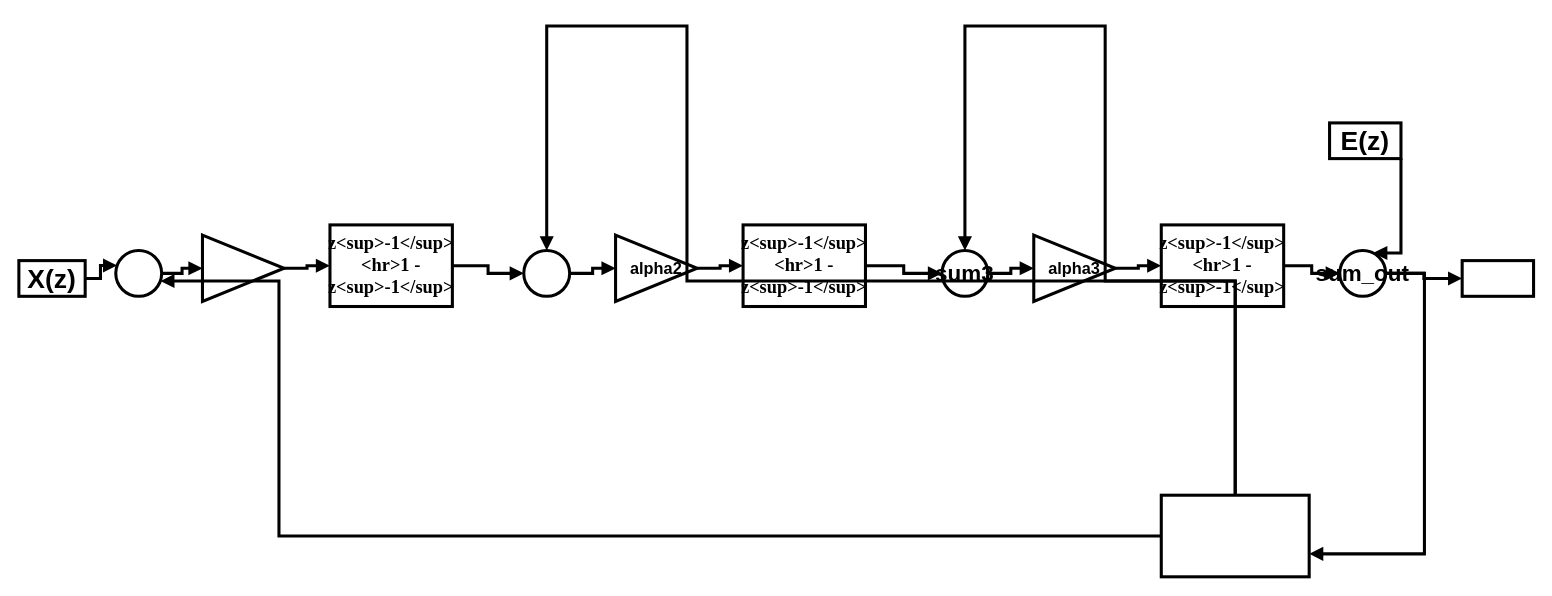
This 1552x596 diagram has some shape labels left out. The box of each missing label's shape, as (x1, y1, x2, y2) in pixels:
alpha1: (200, 233, 285, 302)
DAC: (1159, 493, 1310, 578)
sum1: (114, 248, 163, 297)
sum2: (522, 248, 571, 297)
Y(z): (1460, 259, 1535, 297)
